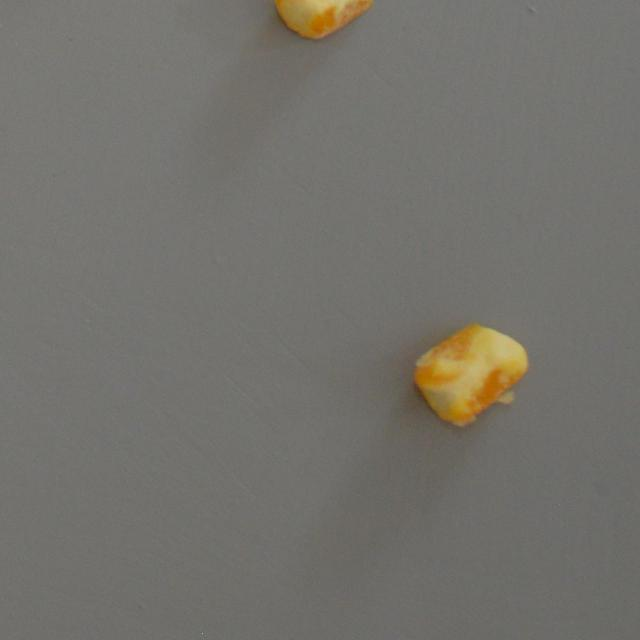pelicula: (410, 318, 528, 432), (272, 0, 372, 42)
